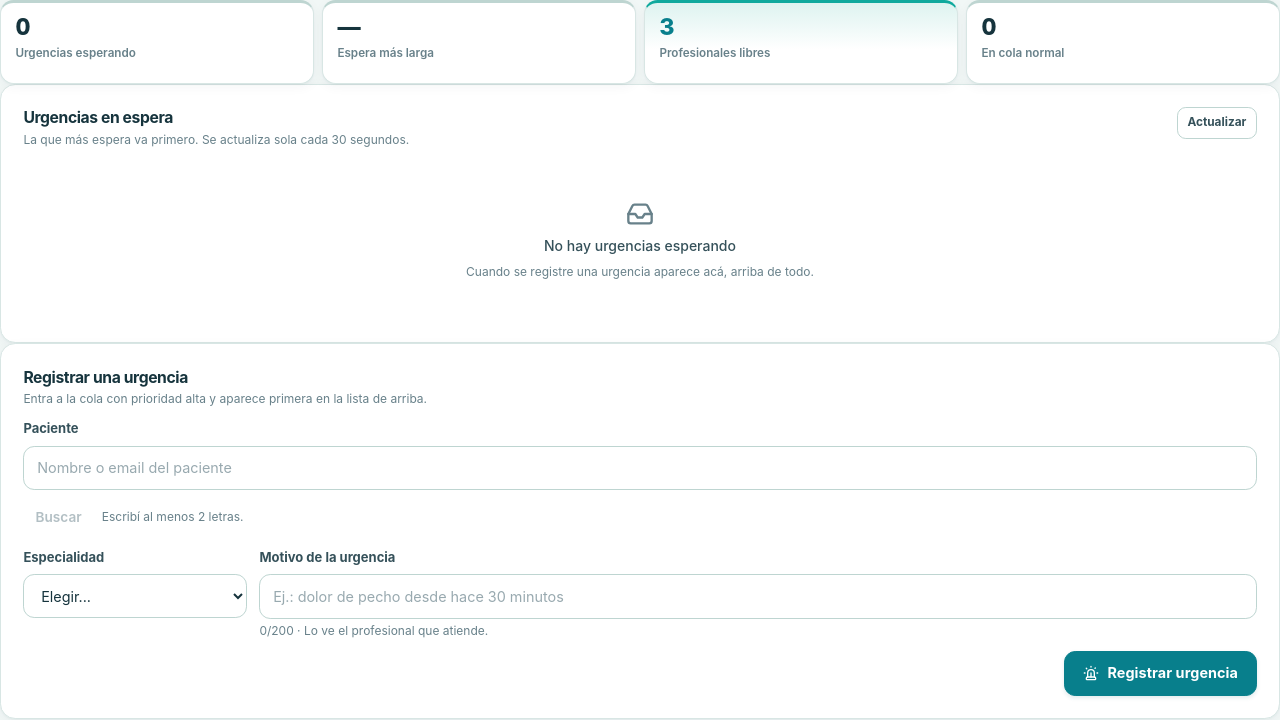
Test case: SeccionUrgencias — registrar una urgencia › exige un motivo de al menos 5 caracteres
The image size is (1280, 720).
In the field labelled "Motivo de la urgencia": (758, 597) [259,574,1257,619], type "abc"
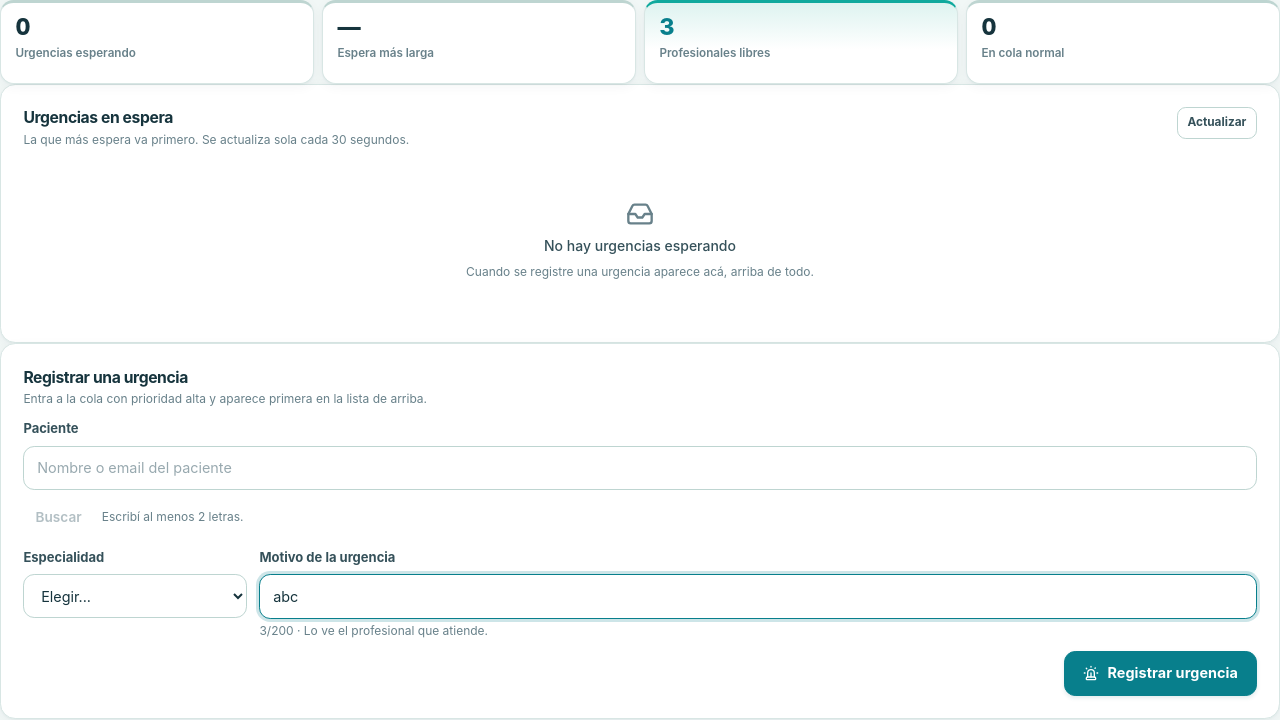
Click the button "Registrar urgencia": (1160, 673) [1064,651,1257,696]
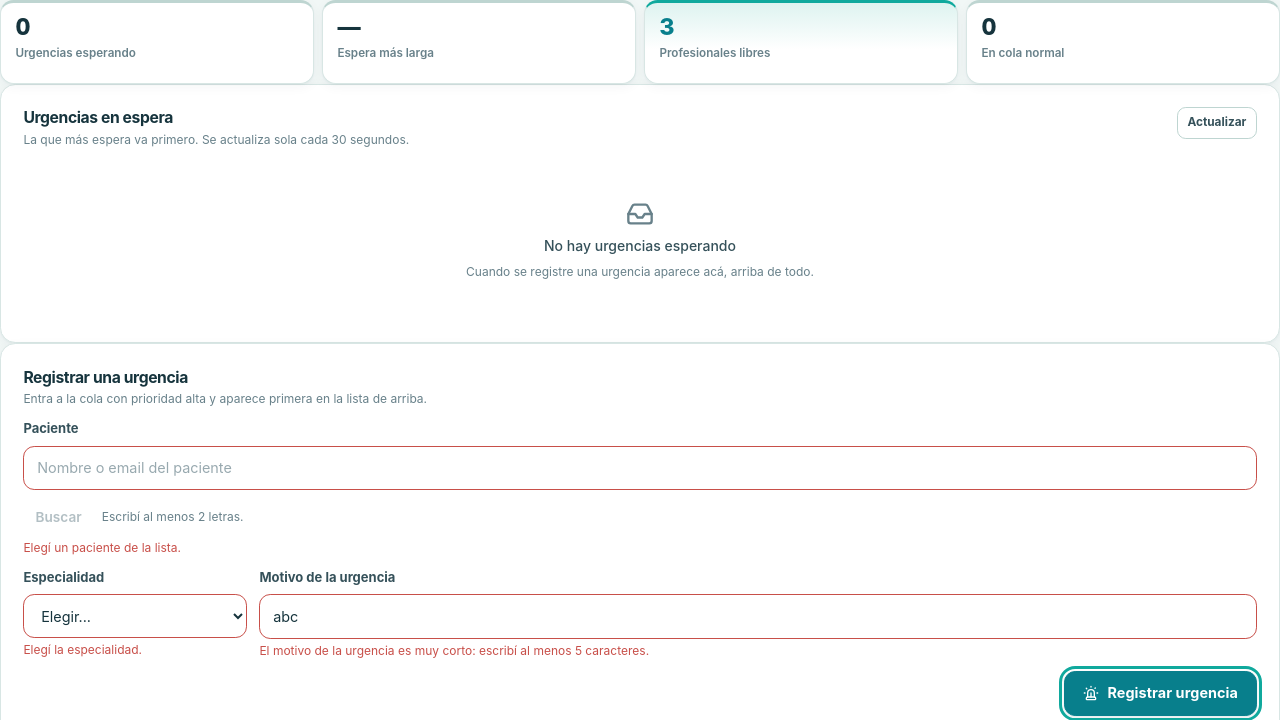
Expected: the text "al menos 5 caracteres" is shown, [259,643,649,658]
